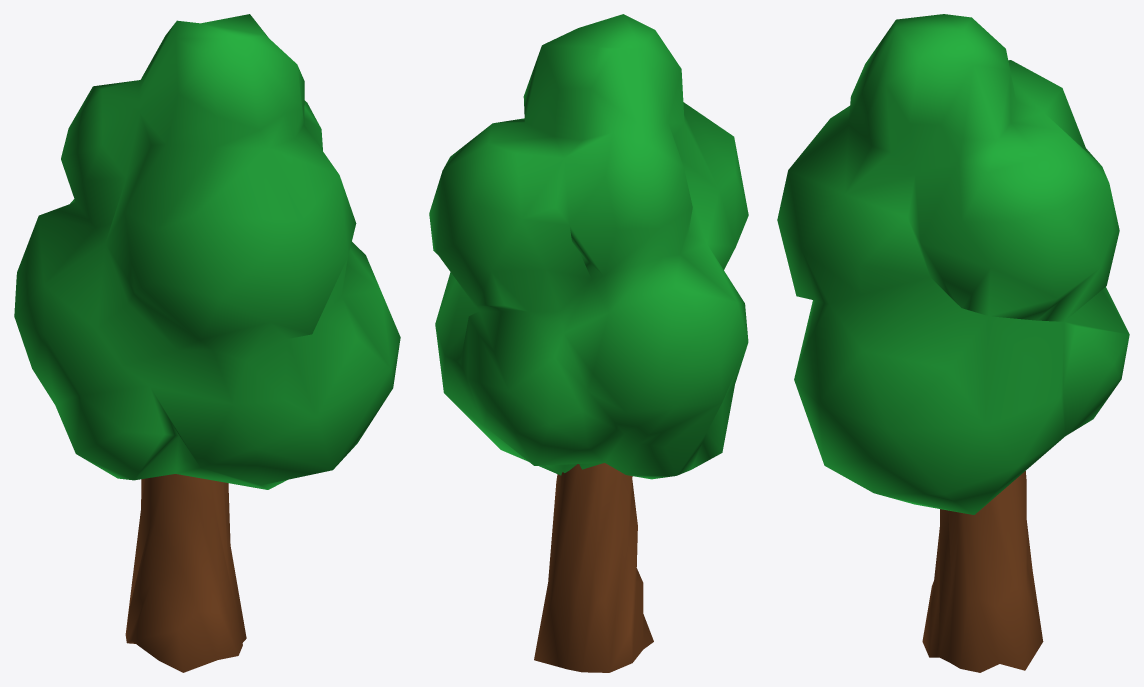
Rendered from TreeVar2.fbx.
3 views of the same model, side by side, from view 1: azimuth 30°, elevation 25°; view 2: azimuth 150°, elevation 25°; view 3: azimuth 270°, elevation 25° (orthographic). The views are drawn at different scales.
Visible parts, largest first — view 1: Tree trunk; view 2: Tree trunk; view 3: Tree trunk.
Boxes of the visible parts, box(x1,y1,x2,y2) form: Tree trunk: box(14, 14, 400, 672); Tree trunk: box(429, 14, 748, 672); Tree trunk: box(777, 14, 1129, 672).
Bounding box in the file's own units: 581 × 1111 × 563.
